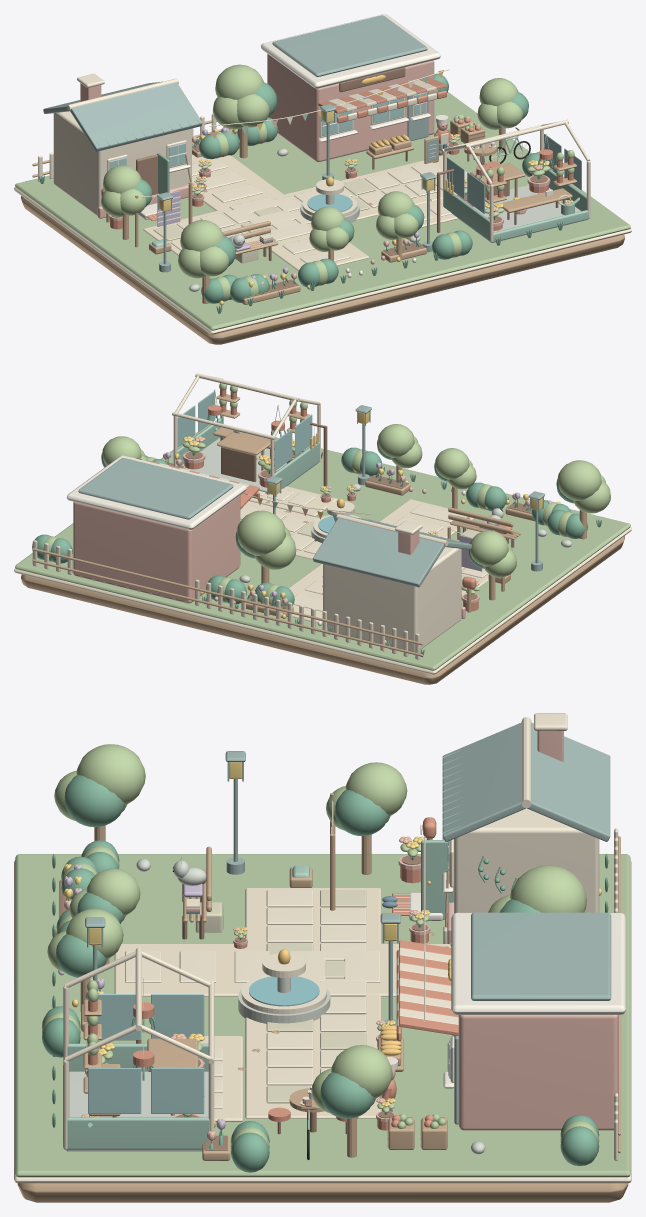
File: neighborhood.glb
3 views of the same model, one above another, from view 1: azimuth 30°, elevation 25°; view 2: azimuth 150°, elevation 25°; view 3: azimuth 270°, elevation 25° (orthographic). The views are drawn at different scales.
Parts seen in each view (by area): view 1: Neighborhood_grass, Neighborhood_cream, Neighborhood_sage, Neighborhood_pale_wood, Neighborhood_roof, Neighborhood_rose, Neighborhood_leaf, Neighborhood_path, Neighborhood_paper, Neighborhood_mint, Neighborhood_glass, Neighborhood_wood (+7 smaller); view 2: Neighborhood_cream, Neighborhood_grass, Neighborhood_pale_wood, Neighborhood_rose, Neighborhood_roof, Neighborhood_sage, Neighborhood_leaf, Neighborhood_path, Neighborhood_paper, Neighborhood_wood, Neighborhood_glass, Neighborhood_stone (+4 smaller); view 3: Neighborhood_grass, Neighborhood_cream, Neighborhood_roof, Neighborhood_pale_wood, Neighborhood_rose, Neighborhood_sage, Neighborhood_leaf, Neighborhood_path, Neighborhood_glass, Neighborhood_mint, Neighborhood_paper, Neighborhood_terracotta (+6 smaller).
Part boxes in pixels (x1=…): Neighborhood_grass: x1=15, y1=92, x2=630, y2=330; Neighborhood_cream: x1=14, y1=69, x2=631, y2=334; Neighborhood_sage: x1=101, y1=64, x2=574, y2=301; Neighborhood_pale_wood: x1=21, y1=117, x2=624, y2=344; Neighborhood_roof: x1=43, y1=15, x2=438, y2=272; Neighborhood_rose: x1=80, y1=54, x2=569, y2=284; Neighborhood_leaf: x1=39, y1=74, x2=563, y2=313; Neighborhood_path: x1=143, y1=154, x2=467, y2=271; Neighborhood_paper: x1=117, y1=14, x2=552, y2=278; Neighborhood_mint: x1=94, y1=76, x2=588, y2=247; Neighborhood_glass: x1=109, y1=92, x2=581, y2=213; Neighborhood_wood: x1=111, y1=67, x2=565, y2=298; Neighborhood_cream: x1=14, y1=373, x2=631, y2=674; Neighborhood_grass: x1=15, y1=424, x2=630, y2=670; Neighborhood_pale_wood: x1=21, y1=394, x2=624, y2=684; Neighborhood_rose: x1=73, y1=430, x2=529, y2=618; Neighborhood_roof: x1=78, y1=405, x2=545, y2=587; Neighborhood_sage: x1=43, y1=383, x2=610, y2=604; Neighborhood_leaf: x1=32, y1=414, x2=601, y2=657; Neighborhood_path: x1=240, y1=486, x2=488, y2=624; Neighborhood_paper: x1=66, y1=430, x2=480, y2=625; Neighborhood_wood: x1=166, y1=422, x2=532, y2=609; Neighborhood_glass: x1=177, y1=391, x2=312, y2=470; Neighborhood_stone: x1=182, y1=437, x2=571, y2=582; Neighborhood_grass: x1=15, y1=854, x2=630, y2=1177; Neighborhood_cream: x1=14, y1=713, x2=631, y2=1183; Neighborhood_roof: x1=85, y1=722, x2=611, y2=1124; Neighborhood_pale_wood: x1=17, y1=792, x2=628, y2=1202; Neighborhood_rose: x1=64, y1=731, x2=618, y2=1141; Neighborhood_sage: x1=42, y1=744, x2=599, y2=1148; Neighborhood_leaf: x1=42, y1=774, x2=608, y2=1172; Neighborhood_path: x1=114, y1=888, x2=451, y2=1121; Neighborhood_glass: x1=88, y1=841, x2=454, y2=1113; Neighborhood_mint: x1=63, y1=750, x2=463, y2=1149; Neighborhood_paper: x1=58, y1=825, x2=625, y2=1103; Neighborhood_terracotta: x1=86, y1=817, x2=458, y2=1130.
Bounding box in the file's own units: 15.92 × 4.8 × 12.75.
